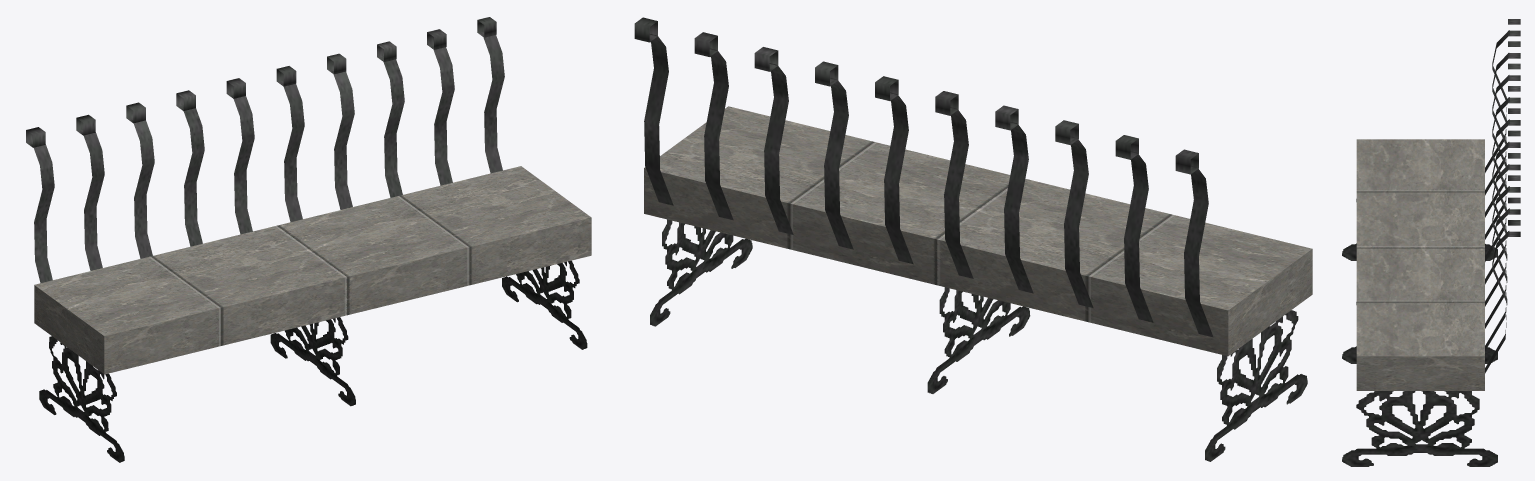
The model's file is mun_all_imprv_bench_l1.fbx.
3 views of the same model, side by side, from view 1: azimuth 30°, elevation 25°; view 2: azimuth 150°, elevation 25°; view 3: azimuth 270°, elevation 25° (orthographic). The views are drawn at different scales.
Visible parts, largest first — view 1: mesh_node; view 2: mesh_node; view 3: mesh_node.
Part boxes in pixels (x1,y1,x2,y2): mesh_node: (26,17,591,462); mesh_node: (634,17,1312,461); mesh_node: (1342,19,1520,466).
Bounding box in the file's own units: 2 × 1.04 × 0.7004.
